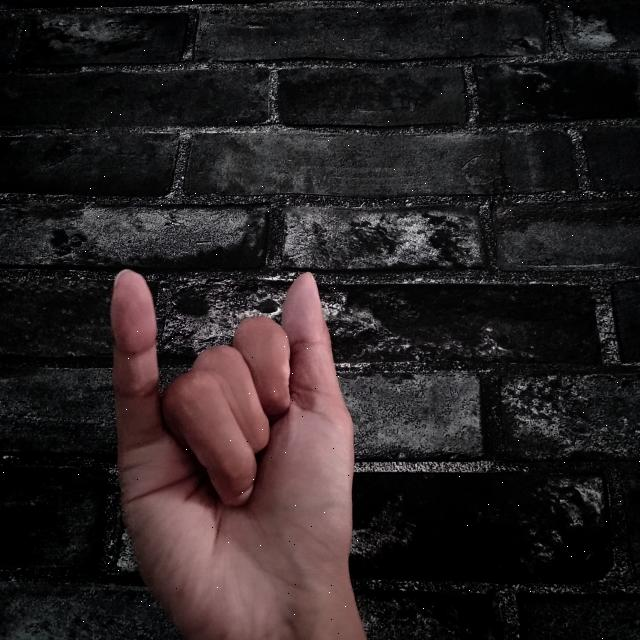Y: (97, 258, 364, 640)
